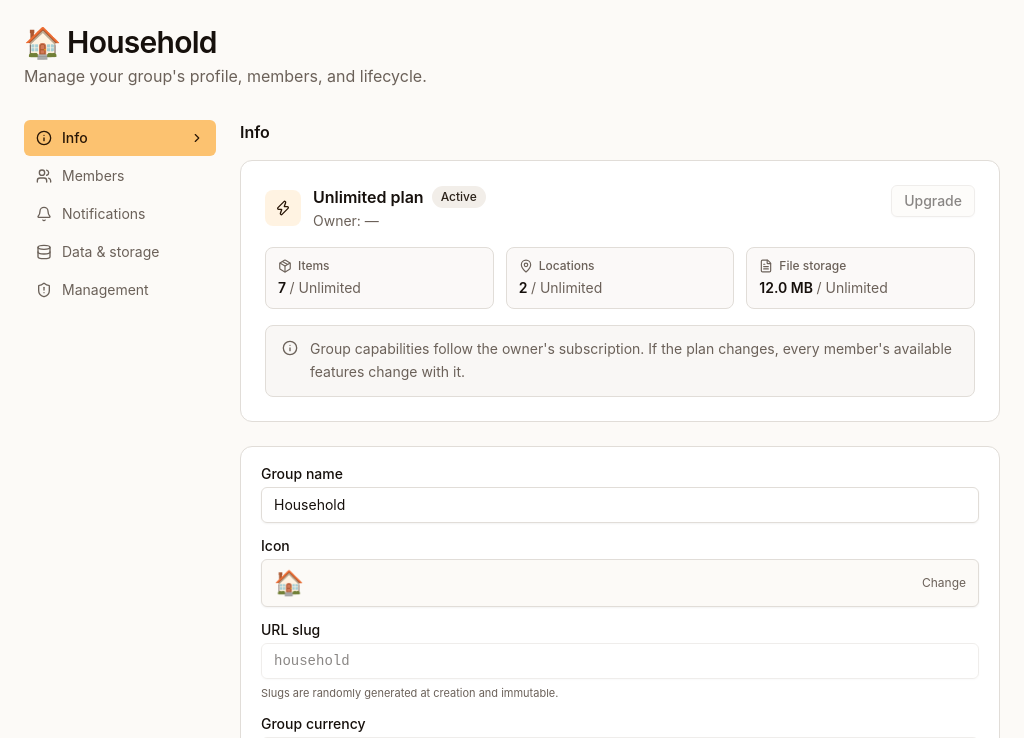
it: <GroupSettingsPage /> › surfaces the error state when the notifications endpoint fails
The image size is (1024, 738).
Click the button with test id "group-settings-nav-notifications": coordinates (120, 214) [24,196,216,232]
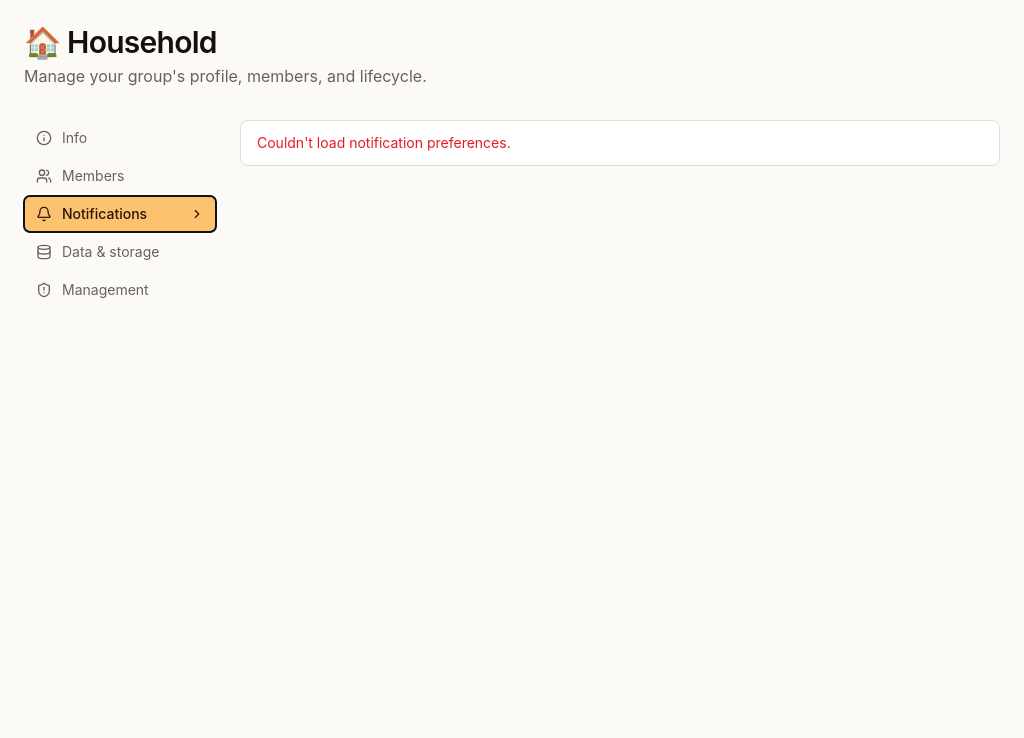
Check: the message "Couldn't load notification preferences." is shown, box [240,120,1000,166]
